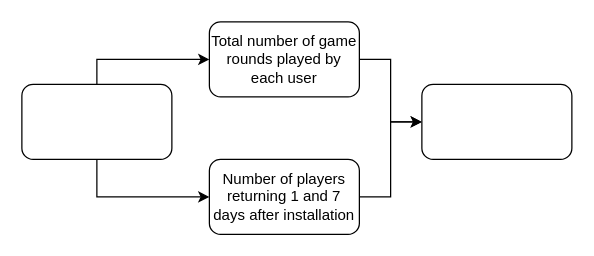
Image size: 594x256. Some labels were removed from this diagram. Here are the shapes that lost their labels. From the top down, the centre of each, then its label:
At (96,121): "Gate location".
At (496,121): "In-game purchases".
